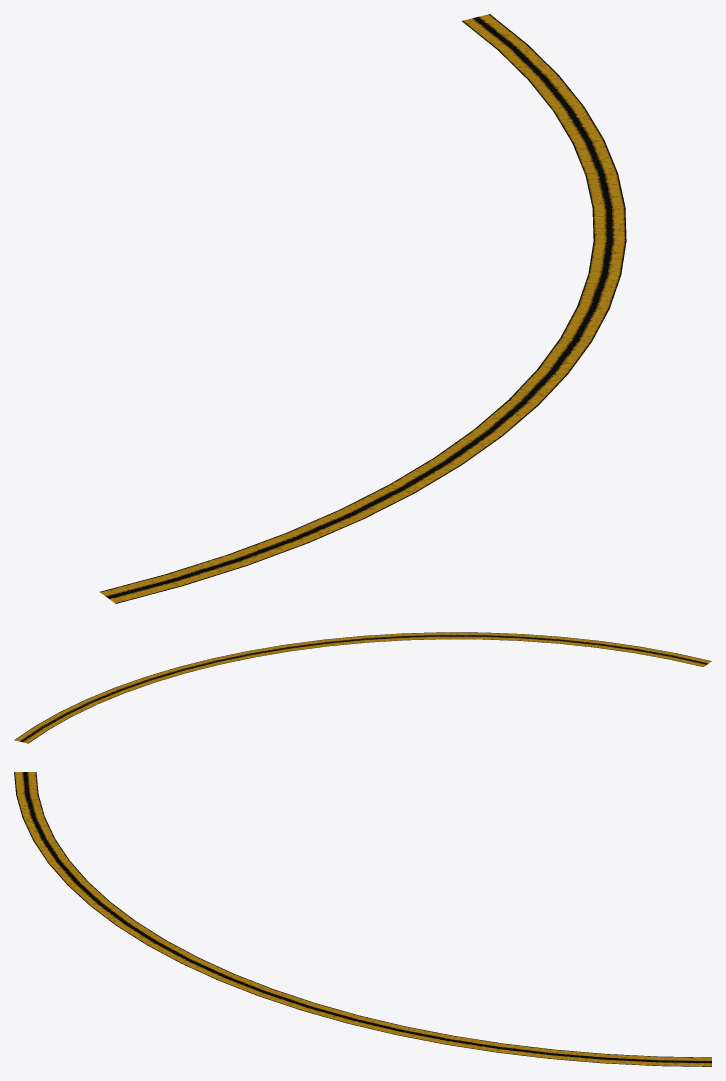
The model's file is Curve_4Lane_Long_DoubleYellow.gltf.
3 views of the same model, one above another, from view 1: azimuth 30°, elevation 25°; view 2: azimuth 150°, elevation 25°; view 3: azimuth 270°, elevation 25° (orthographic). The views are drawn at different scales.
Parts seen in each view (by area): view 1: Curve_4Lane_Long_DoubleYellow; view 2: Curve_4Lane_Long_DoubleYellow; view 3: Curve_4Lane_Long_DoubleYellow.
Boxes of the visible parts, x1,y1,x2,y2 form: Curve_4Lane_Long_DoubleYellow: (100,14,626,603); Curve_4Lane_Long_DoubleYellow: (14,632,711,743); Curve_4Lane_Long_DoubleYellow: (14,772,711,1066).
Bounding box in the file's own units: 12.2 × 0 × 12.2.
Materials: 1 (1 with a texture image).
